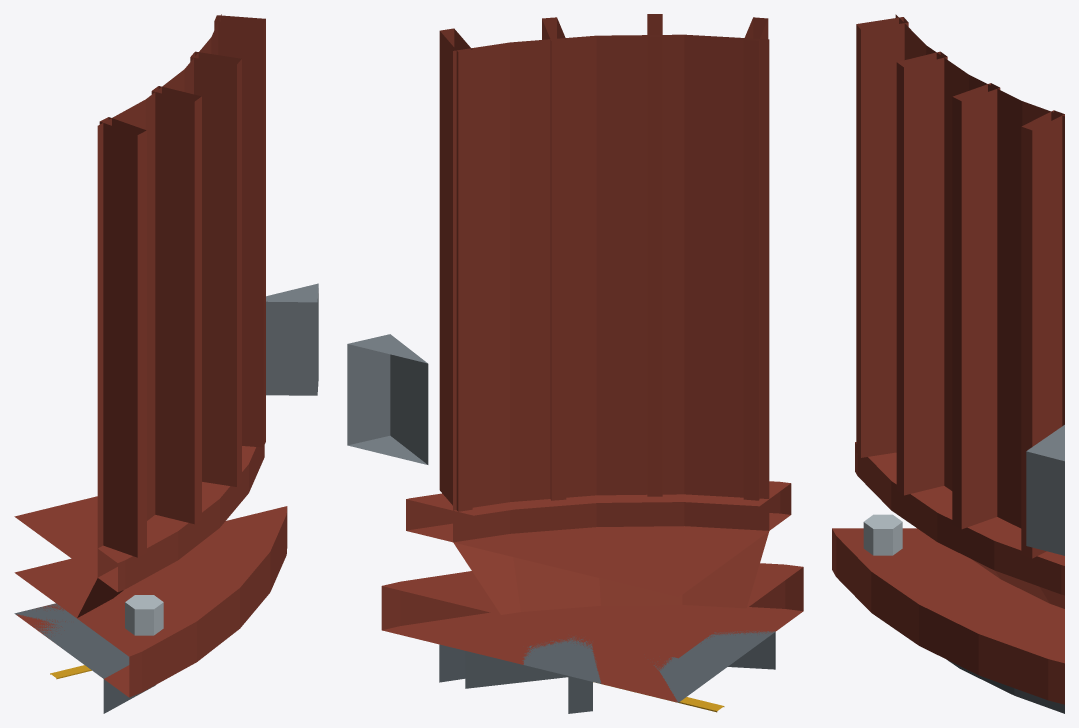
File: cell_78.obj
3 views of the same model, side by side, from view 1: azimuth 30°, elevation 25°; view 2: azimuth 150°, elevation 25°; view 3: azimuth 270°, elevation 25° (orthographic). The views are drawn at different scales.
Bounding box in the file's own units: 0.5458 × 1 × 0.357.
